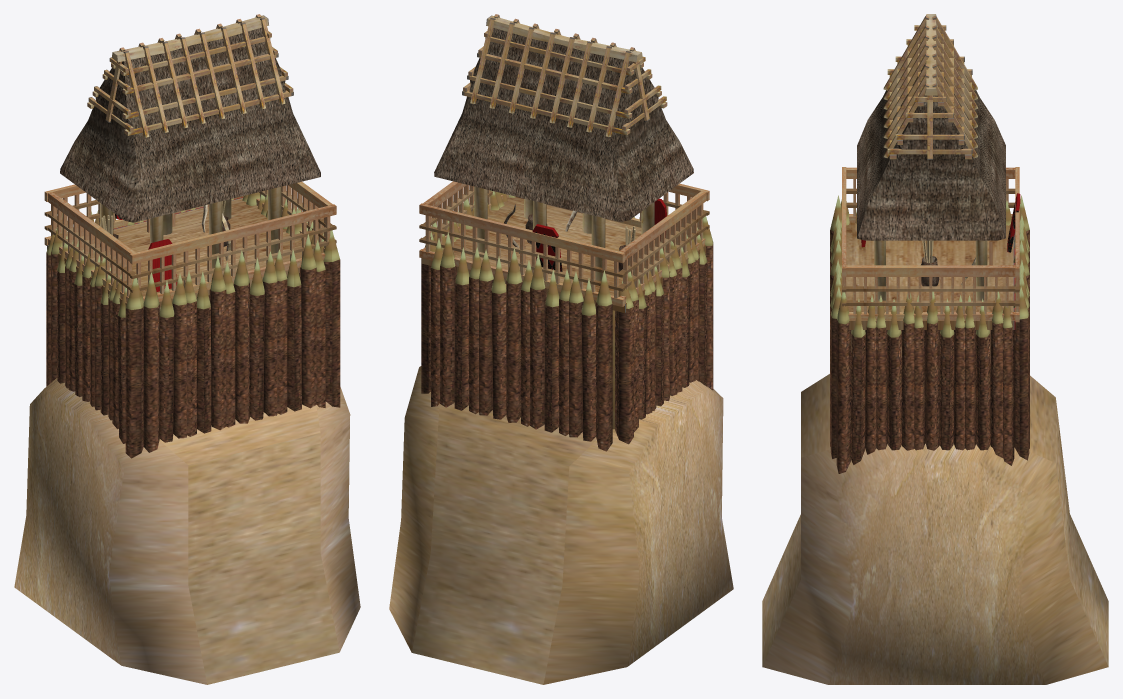
File: xion_wall_tower.dae
3 renders of one model, left to right at view 1: azimuth 30°, elevation 25°; view 2: azimuth 150°, elevation 25°; view 3: azimuth 270°, elevation 25°, orthographic. The views are drawn at different scales.
Parts seen in each view (by area): view 1: wall_tower; view 2: wall_tower; view 3: wall_tower.
Boxes of the visible parts, x1,y1,x2,y2 form: wall_tower: (14, 14, 360, 684); wall_tower: (389, 14, 733, 684); wall_tower: (762, 14, 1108, 684).
Size of the model in its own units: 10.01 by 12.33 by 22.97.
